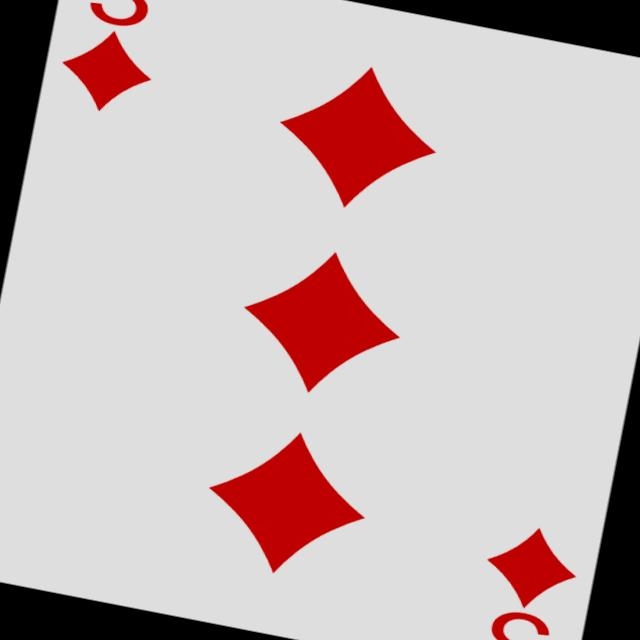Diamond: (264, 51, 450, 224), (228, 236, 414, 408), (195, 418, 379, 588), (53, 22, 160, 122), (479, 520, 585, 618)
